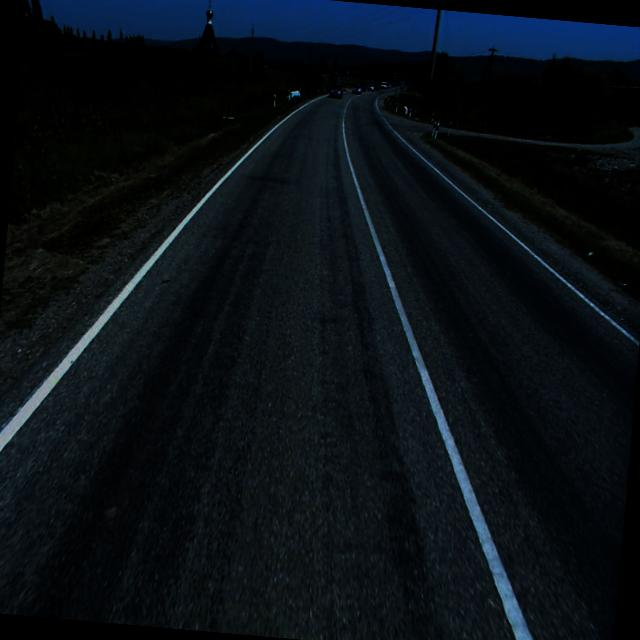road: (0, 89, 639, 640)
